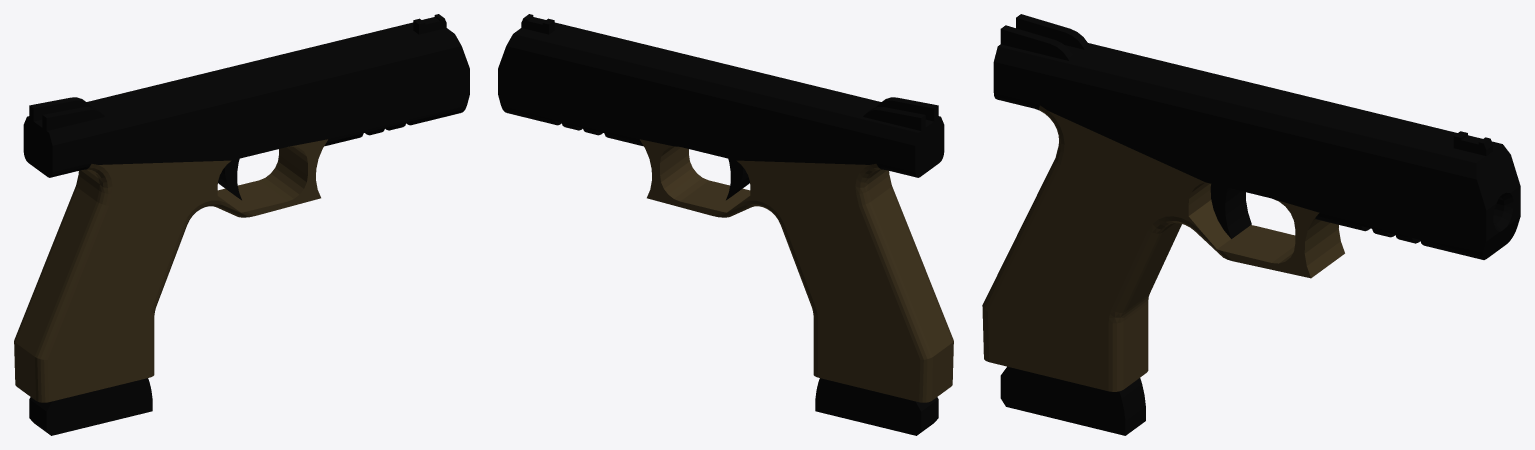
Rendered from AlienPistol.fbx.
3 views of the same model, side by side, from view 1: azimuth 30°, elevation 25°; view 2: azimuth 150°, elevation 25°; view 3: azimuth 330°, elevation 25° (orthographic). The views are drawn at different scales.
Visible parts, largest first — view 1: gun3; view 2: gun3; view 3: gun3.
Part boxes in pixels (<box>): gun3: <box>14,14,469,435</box>; gun3: <box>498,14,953,435</box>; gun3: <box>982,14,1520,435</box>.
Size of the model in its own units: 4304 by 3048 by 500.
